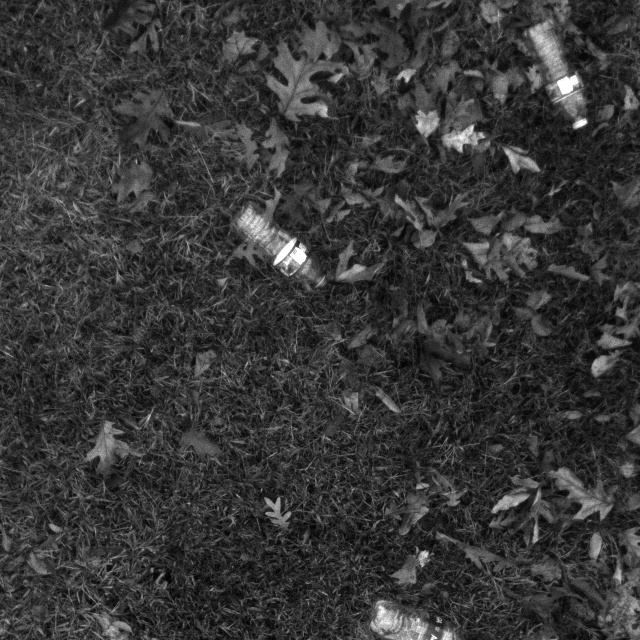bottle: (226, 184, 342, 297), (516, 13, 606, 137)
